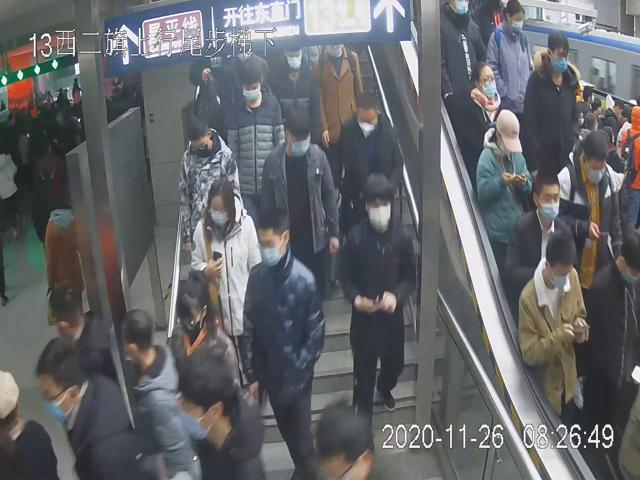person: (241, 203, 328, 473), (336, 168, 419, 423), (187, 173, 264, 375), (257, 95, 340, 276), (501, 165, 574, 294), (178, 114, 240, 262), (226, 55, 283, 209), (523, 29, 583, 173), (485, 3, 535, 117), (455, 55, 501, 168)
